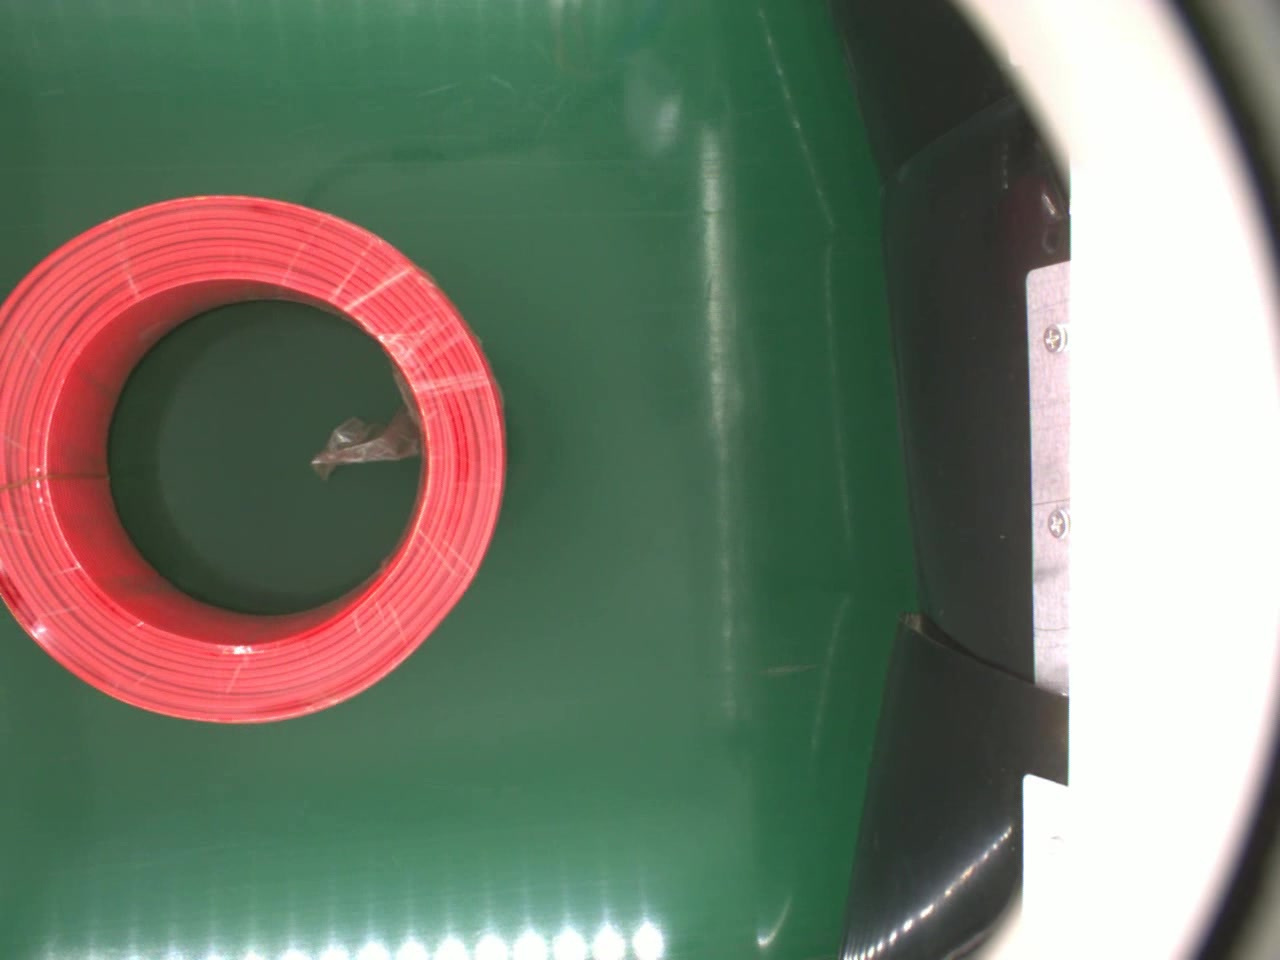red: (0, 190, 507, 722)
